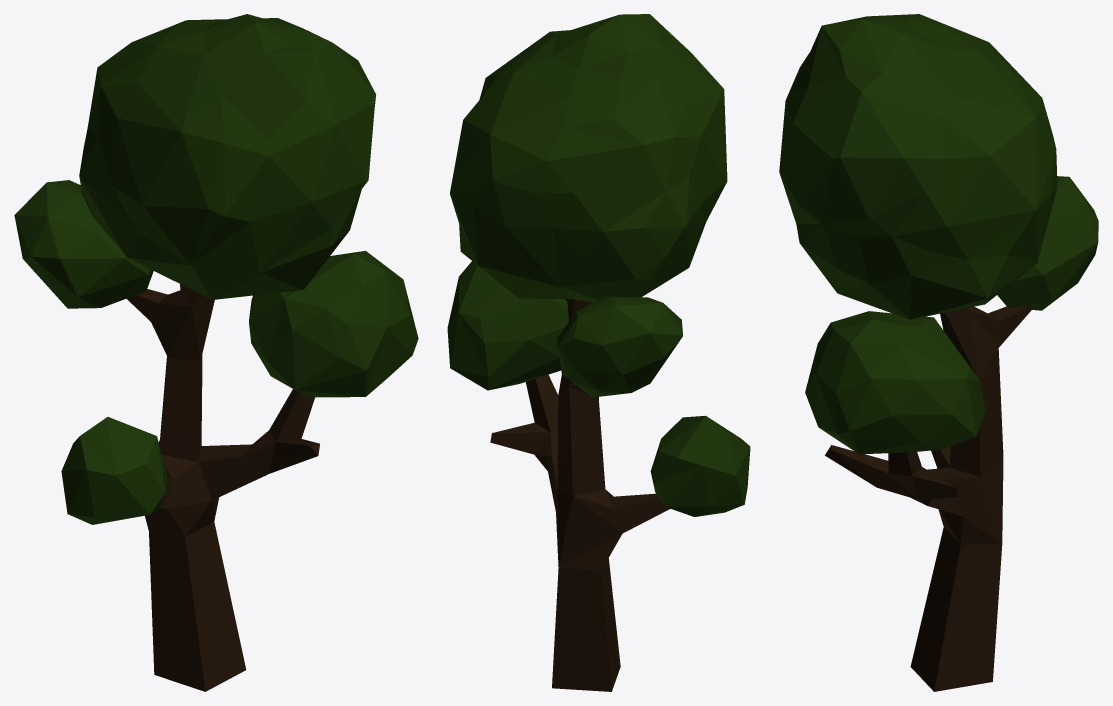
Rendered from ballTree.obj.
The picture shows the model from 3 angles, left to right: view 1: azimuth 30°, elevation 25°; view 2: azimuth 150°, elevation 25°; view 3: azimuth 270°, elevation 25°; orthographic projection. The views are drawn at different scales.
Parts seen in each view (by area): view 1: Tree1 NaturePack; view 2: Tree1 NaturePack; view 3: Tree1 NaturePack.
Part boxes in pixels (<box>): Tree1 NaturePack: <box>14,14,418,691</box>; Tree1 NaturePack: <box>447,14,750,691</box>; Tree1 NaturePack: <box>779,14,1098,691</box>.
Size of the model in its own units: 10.52 by 21.42 by 9.4.
